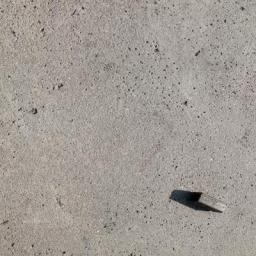FOD: (173, 186, 230, 218)
